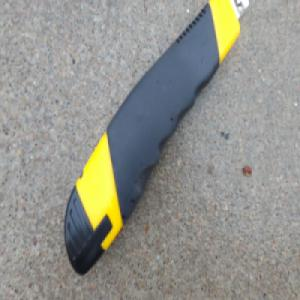Cutter: (67, 1, 244, 270)
